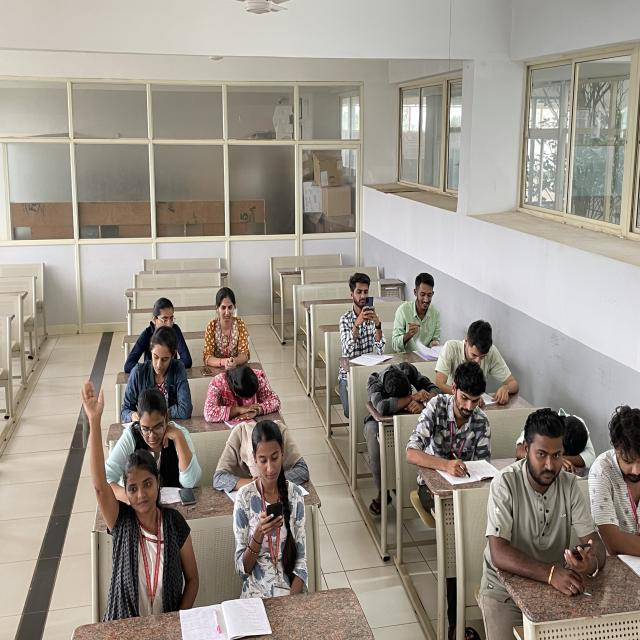Hand Rising: (72, 378, 175, 600)
Reading: (433, 320, 522, 408), (110, 404, 178, 504), (394, 274, 451, 360)
Sleeping: (213, 418, 316, 489), (513, 396, 596, 470), (203, 368, 292, 429), (358, 366, 441, 422)
Using Phone: (490, 425, 608, 569), (225, 428, 311, 591), (328, 269, 389, 353)
Writing: (412, 371, 494, 485), (111, 328, 188, 426)
